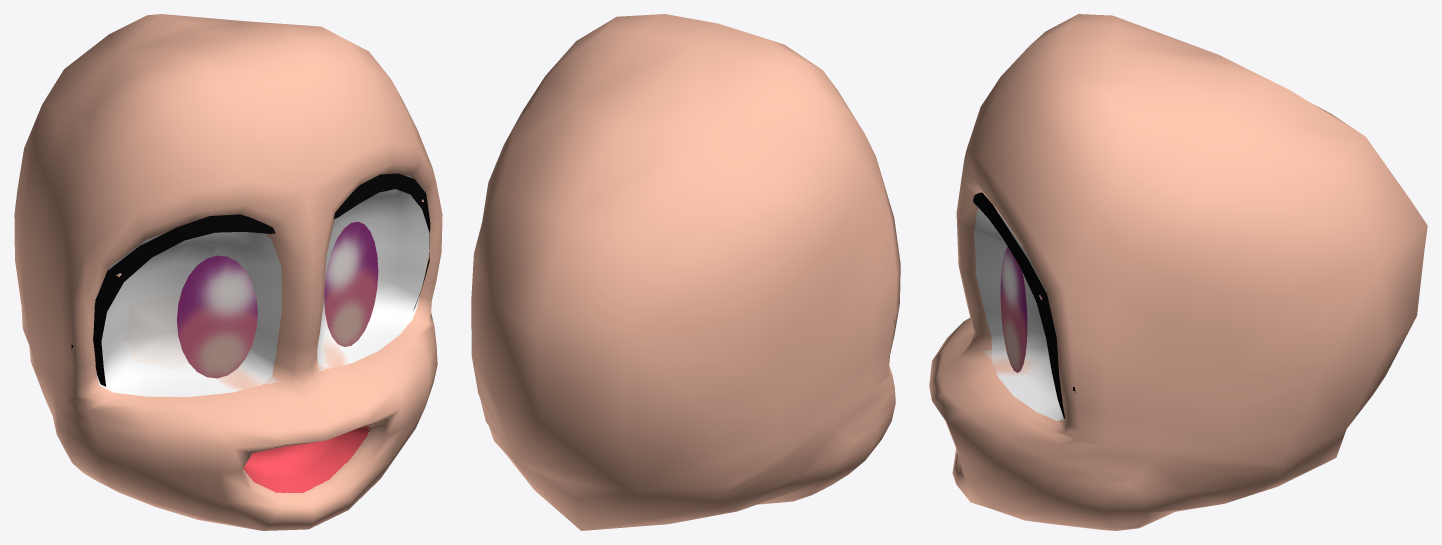
File: AnimeFace.glb
3 views of the same model, side by side, from view 1: azimuth 30°, elevation 25°; view 2: azimuth 150°, elevation 25°; view 3: azimuth 270°, elevation 25° (orthographic).
Parts seen in each view (by area): view 1: SymmVert_001; view 2: SymmVert_001; view 3: SymmVert_001.
Part boxes in pixels (box(x1,y1,x2,y2)): SymmVert_001: box(14, 14, 442, 530); SymmVert_001: box(471, 14, 900, 530); SymmVert_001: box(929, 14, 1427, 530).
Size of the model in its own units: 0.7472 by 0.8715 by 0.8764.
Materials: 1 (1 with a texture image).
